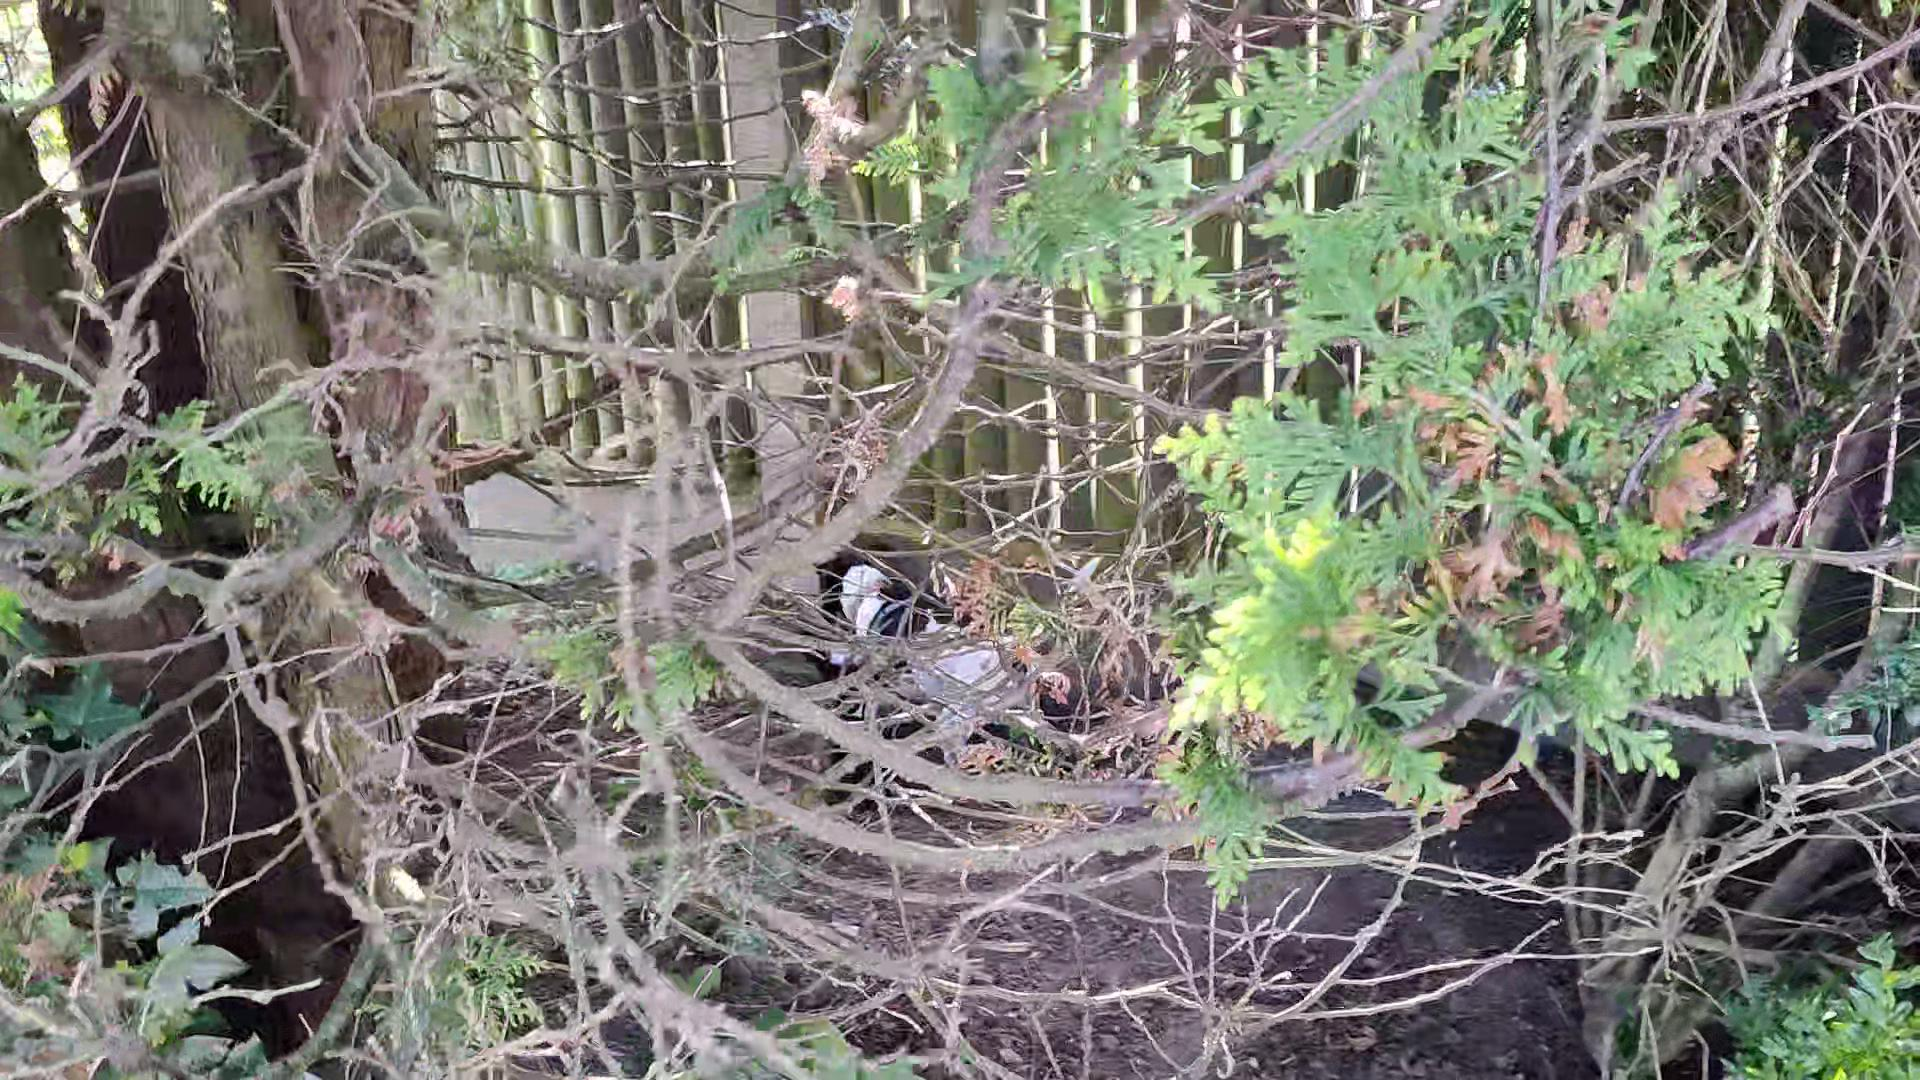Dog: (815, 541, 1116, 785)
